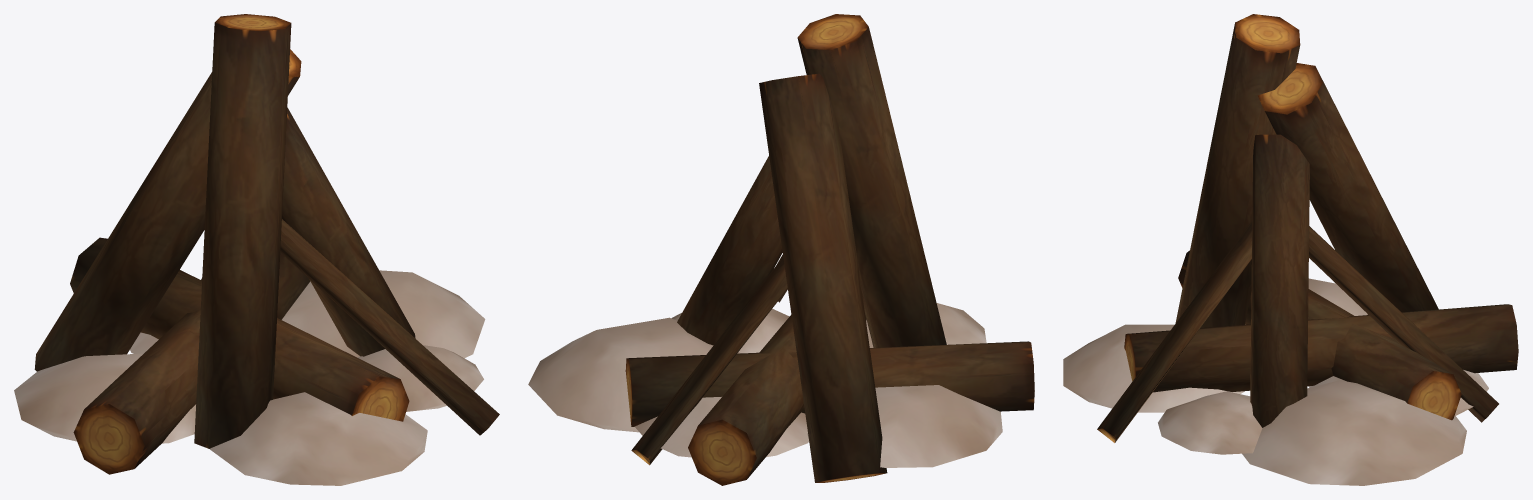
The model's file is Campfire.fbx.
3 views of the same model, side by side, from view 1: azimuth 30°, elevation 25°; view 2: azimuth 150°, elevation 25°; view 3: azimuth 270°, elevation 25° (orthographic). The views are drawn at different scales.
Parts seen in each view (by area): view 1: log.001; view 2: log.001; view 3: log.001.
Part boxes in pixels (<box>): log.001: <box>14,14,499,485</box>; log.001: <box>528,14,1034,485</box>; log.001: <box>1063,14,1518,485</box>.
Size of the model in its own units: 1351 by 1180 by 1294.
